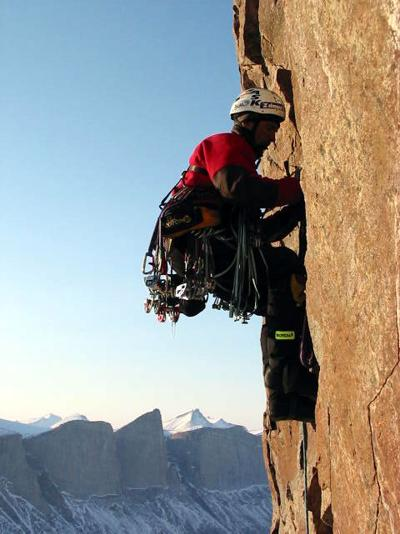person: (142, 87, 317, 424)
